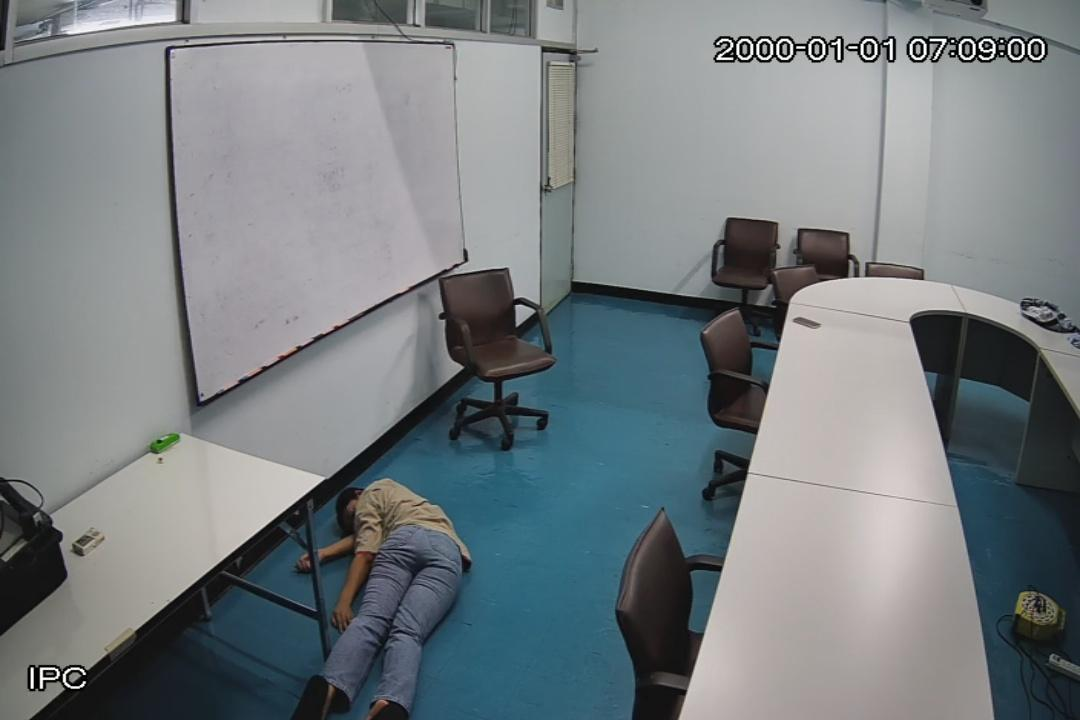fall: (296, 479, 470, 720)
